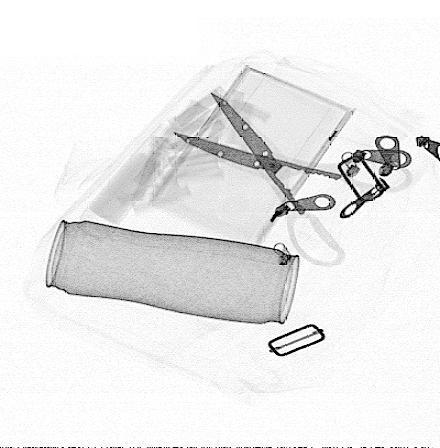Scissors: (169, 89, 415, 267)
